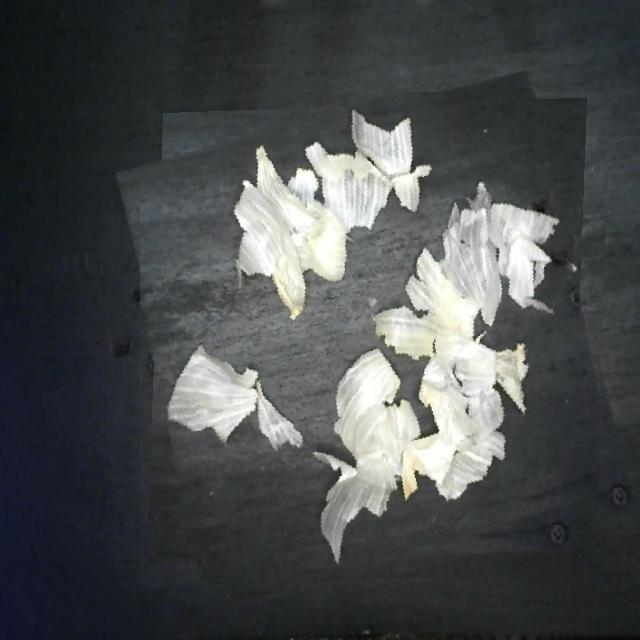biodegradable: (140, 92, 612, 589)
